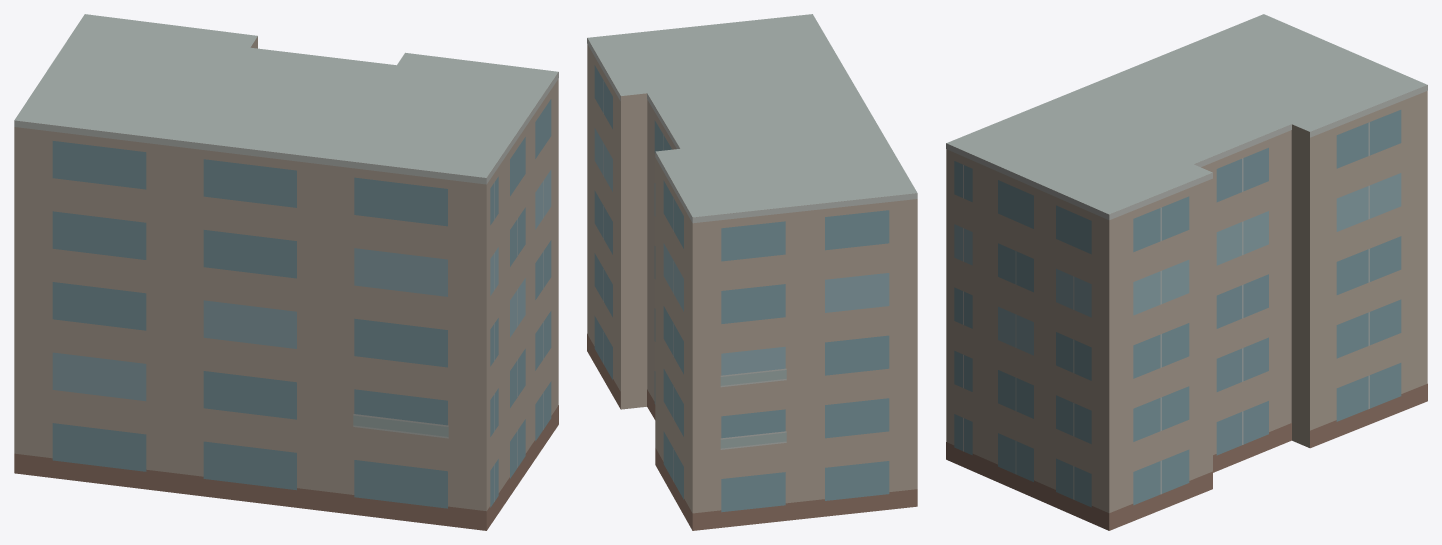
The model's file is survey-upis-32835674.glb.
The picture shows the model from 3 angles, left to right: view 1: azimuth 30°, elevation 25°; view 2: azimuth 150°, elevation 25°; view 3: azimuth 270°, elevation 25°; orthographic projection. The views are drawn at different scales.
Parts seen in each view (by area): view 1: survey-upis-32835674.tmp; view 2: survey-upis-32835674.tmp; view 3: survey-upis-32835674.tmp.
Part boxes in pixels (left/top/right/bottom): survey-upis-32835674.tmp: left=14, top=14, right=558, bottom=530; survey-upis-32835674.tmp: left=587, top=14, right=917, bottom=530; survey-upis-32835674.tmp: left=946, top=14, right=1427, bottom=530.
Bounding box in the file's own units: 17.95 × 13.2 × 18.21.
